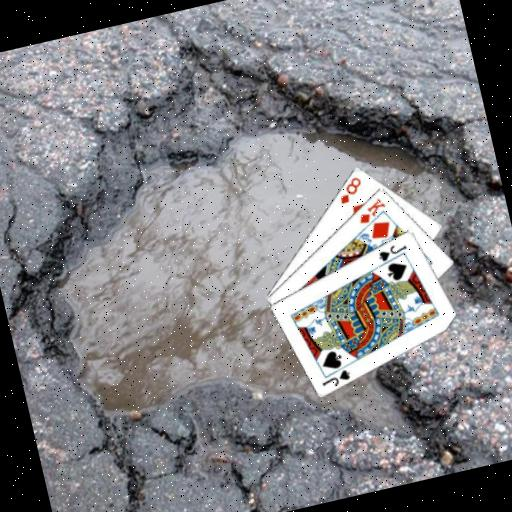8D: (333, 173, 367, 207)
JS: (374, 239, 411, 264), (317, 365, 354, 390)
KD: (352, 194, 390, 227)
